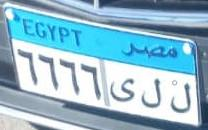6: (37, 50, 59, 95), (79, 61, 102, 101), (59, 55, 79, 99), (16, 46, 37, 87)
laam: (168, 78, 193, 120), (140, 73, 163, 114)
yaa: (108, 71, 135, 109)
